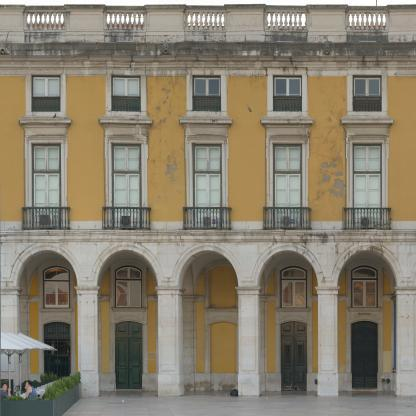Balcony: (0, 4, 416, 57)
Building Outline: (0, 4, 416, 397)
Cornice: (99, 115, 153, 125), (179, 115, 233, 125), (18, 116, 73, 125), (341, 115, 395, 124), (260, 116, 314, 125)
Door: (16, 250, 78, 398), (256, 250, 318, 397), (337, 250, 398, 398), (97, 250, 158, 397), (177, 250, 238, 397), (280, 321, 307, 391), (115, 321, 142, 389), (44, 322, 71, 390), (351, 321, 378, 388)
Facade: (0, 43, 416, 397)
Floor Slab: (0, 230, 416, 239)
Ground Floor: (0, 239, 416, 397)
Molding: (0, 229, 416, 243)
Pillar: (155, 286, 187, 396), (235, 286, 263, 396), (74, 286, 101, 397), (315, 286, 340, 396), (392, 286, 416, 397), (0, 287, 23, 398)
Sill: (40, 308, 73, 313), (348, 307, 381, 312), (206, 308, 240, 312), (112, 308, 146, 312), (277, 308, 310, 312)
Top Floor: (0, 57, 416, 239)
Window: (32, 144, 61, 230), (353, 144, 382, 230), (273, 144, 302, 230), (193, 144, 222, 230), (112, 144, 141, 230), (115, 265, 142, 308), (351, 266, 378, 308), (43, 266, 70, 308), (280, 266, 307, 308), (31, 75, 61, 112), (111, 75, 141, 112), (353, 75, 382, 112), (192, 75, 221, 112), (273, 75, 302, 112)
dont: (0, 331, 82, 416)
